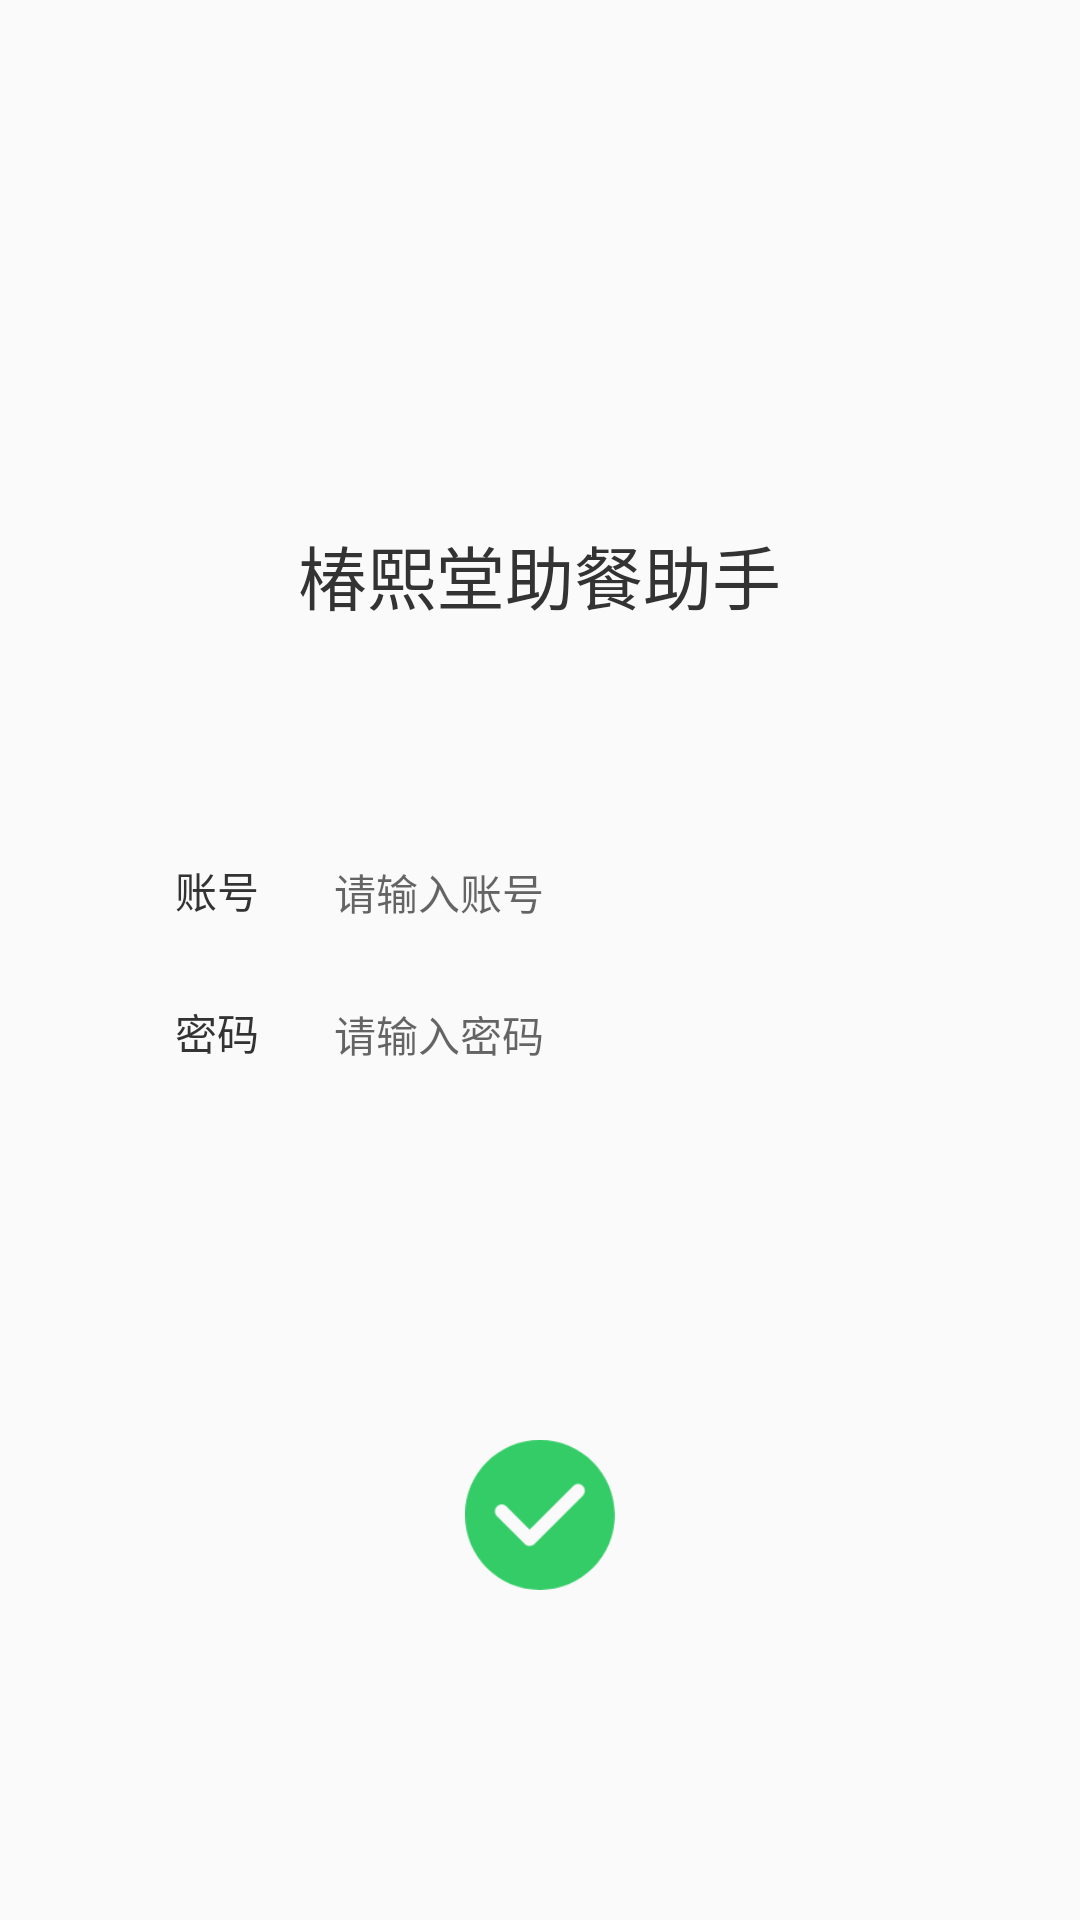

Screen size 1080px×1920px. Icon name, then its box in pixels as (x1, y1, x2, y2):
check mark: (465, 1440, 615, 1590)
